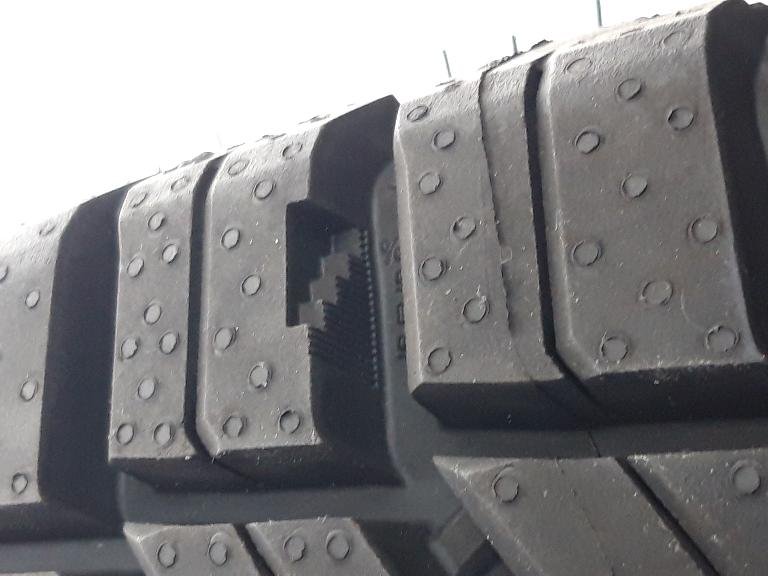temoin:100: (275, 189, 388, 397)
